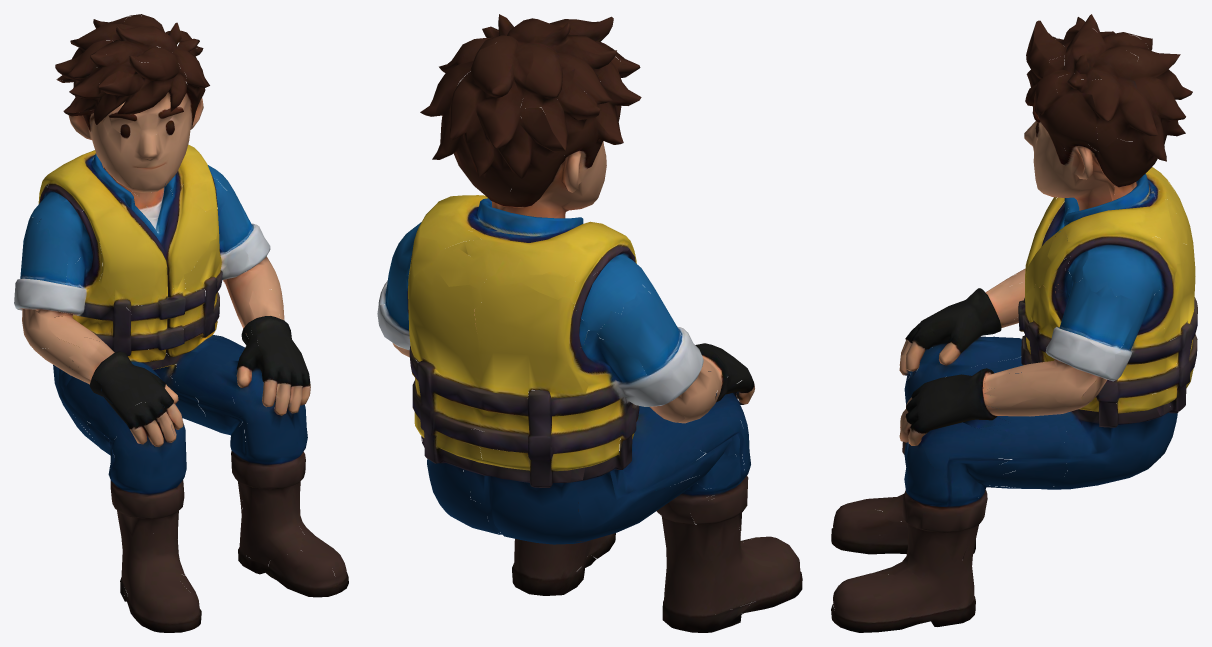
File: passenger.glb
3 views of the same model, side by side, from view 1: azimuth 30°, elevation 25°; view 2: azimuth 150°, elevation 25°; view 3: azimuth 270°, elevation 25° (orthographic). The views are drawn at different scales.
Parts seen in each view (by area): view 1: passenger, passenger_head; view 2: passenger, passenger_head; view 3: passenger, passenger_head.
Part boxes in pixels (x1,y1,x2,y2): passenger: (14,148,348,632); passenger_head: (55,14,209,192); passenger: (377,195,802,632); passenger_head: (420,14,641,254); passenger: (831,167,1197,632); passenger_head: (1024,14,1192,228).
Size of the model in its own units: 0.597 by 1.18 by 0.7067.
1 material, 1 textured.
